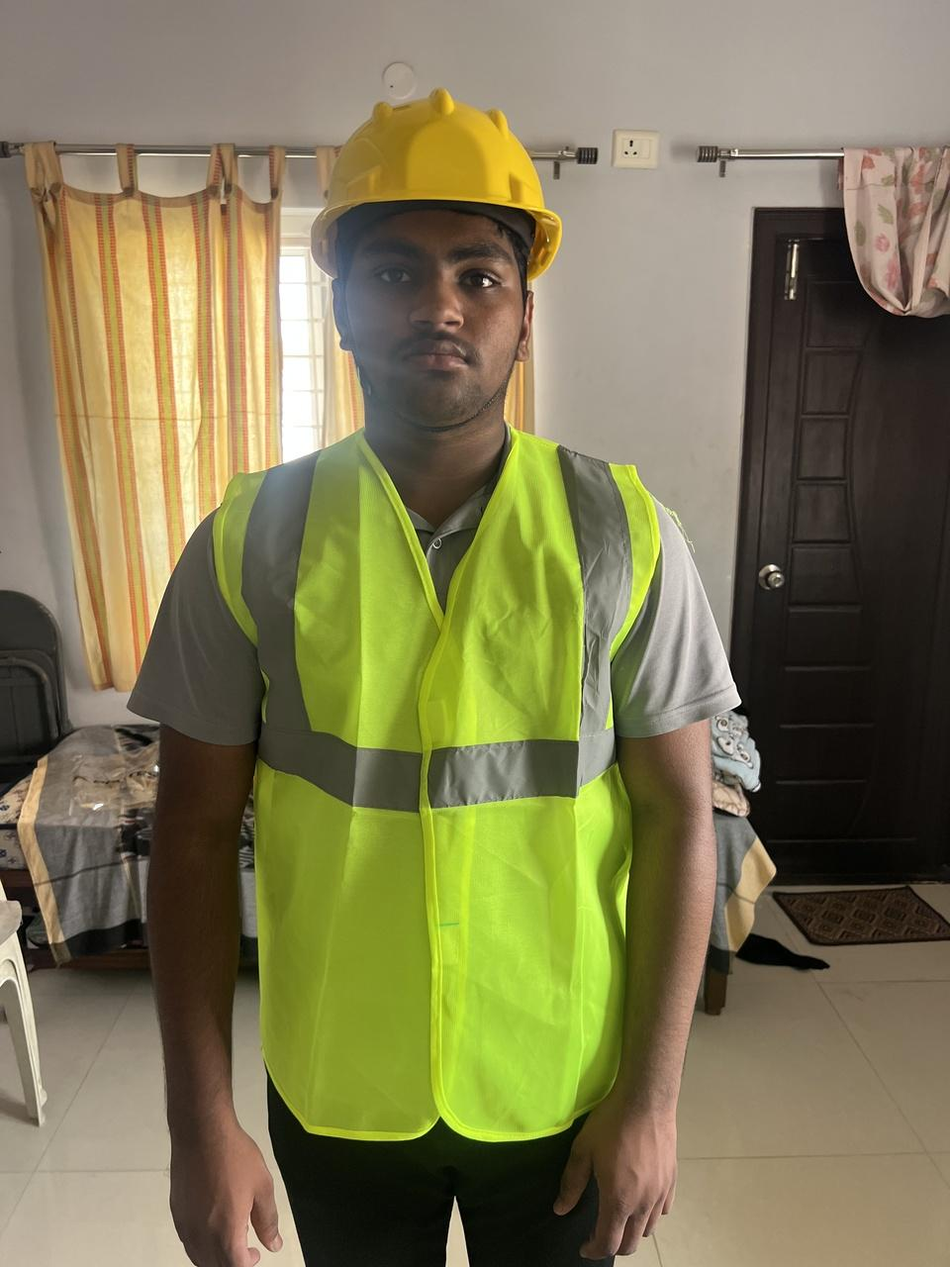Helmet: (311, 89, 562, 284)
Person: (128, 91, 741, 1267)
Vest: (213, 421, 661, 1143)
